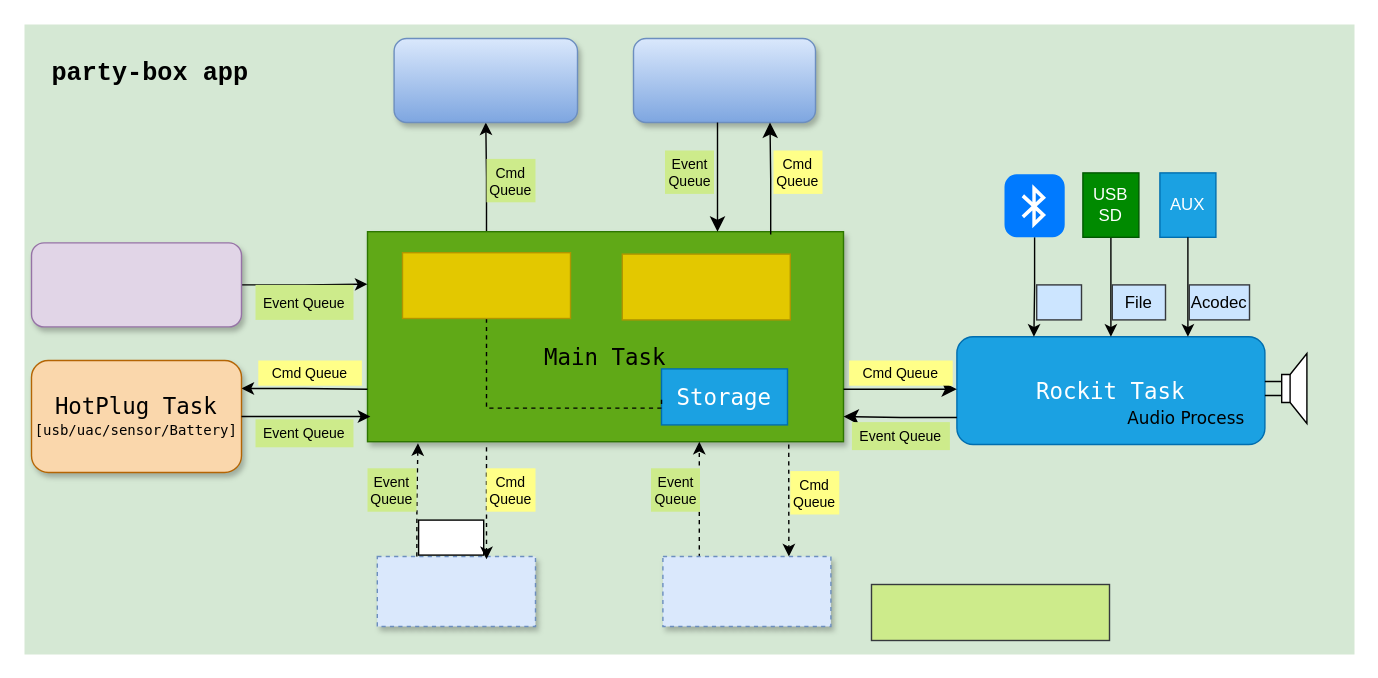
The diagram is 1378 pixels wide and 678 high, and some of its shapes have lost their labels. The centre of each missing label's shape, as x and y in pixels:
Cmd Dispatch: (705,286)
Event Process: (485,284)
HCI-BT or MCU-BT Hardware One Optional: (990,611)
HCI-BT Task (BlueZ): (747,593)
KeyScan Task [adc/knob/gpio-key]: (137,286)
LED Task: (486,81)
LVGL Task: (725,81)
MCU-BT Task: (457,593)
PCM: (1058,302)
uart/i2c: (450,537)
